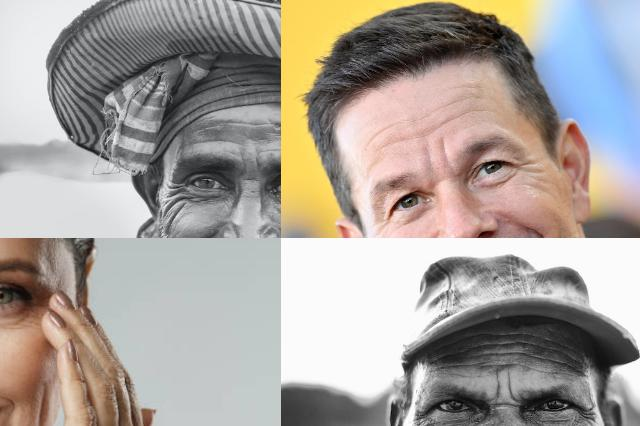crows_feet: (163, 178, 187, 218), (512, 156, 538, 186), (576, 401, 600, 426), (413, 407, 437, 426), (372, 218, 391, 238)
forehead: (502, 326, 540, 365), (546, 337, 578, 377), (435, 98, 483, 124), (374, 122, 416, 146), (223, 114, 267, 132), (469, 330, 496, 356), (193, 134, 237, 148), (437, 343, 459, 369)
frown_line: (488, 372, 518, 410), (426, 141, 450, 172), (242, 172, 264, 186), (250, 152, 264, 172)
gummy_smile: (498, 212, 542, 234), (197, 226, 219, 238)
masseter: (36, 383, 50, 426)
sad_smile: (0, 393, 23, 424)
